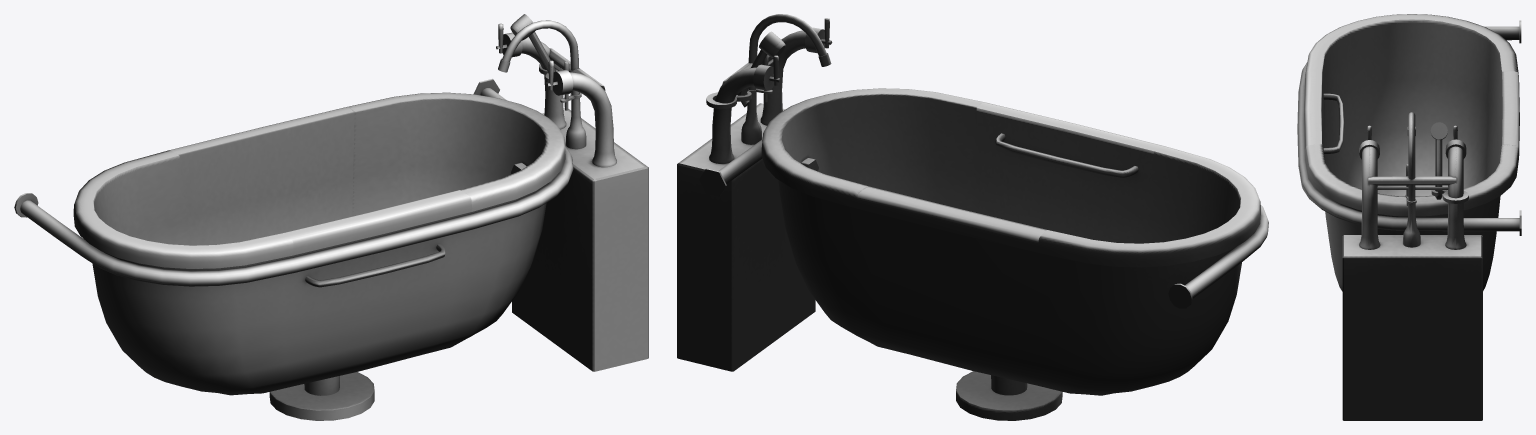
The model's file is Bath.fbx.
The picture shows the model from 3 angles, left to right: view 1: azimuth 30°, elevation 25°; view 2: azimuth 150°, elevation 25°; view 3: azimuth 270°, elevation 25°; orthographic projection. The views are drawn at different scales.
Visible parts, largest first — view 1: Bath; view 2: Bath; view 3: Bath.
Part boxes in pixels (bbox=[...]): Bath: bbox=[14, 14, 648, 420]; Bath: bbox=[677, 14, 1268, 420]; Bath: bbox=[1297, 14, 1521, 420].
Bounding box in the file's own units: 2.16 × 1.26 × 0.9287.
